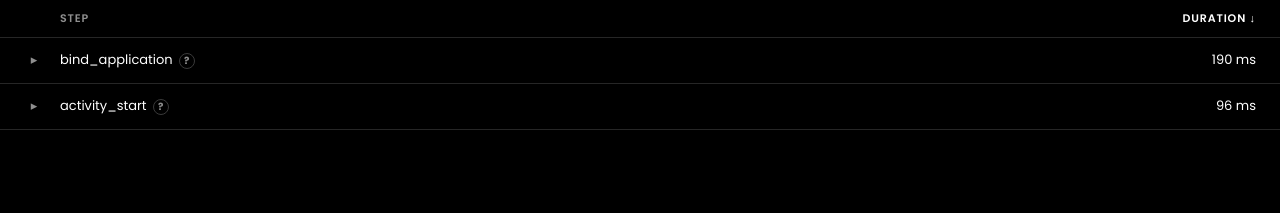
Test: ExpandableTable › opens a row from its toggle and says so
The image size is (1280, 213).
expect the text "Detail for bind_application" is not shown: met
Click the button named "bind_application" at {"x": 34, "y": 60}, box [31,50,37,70]
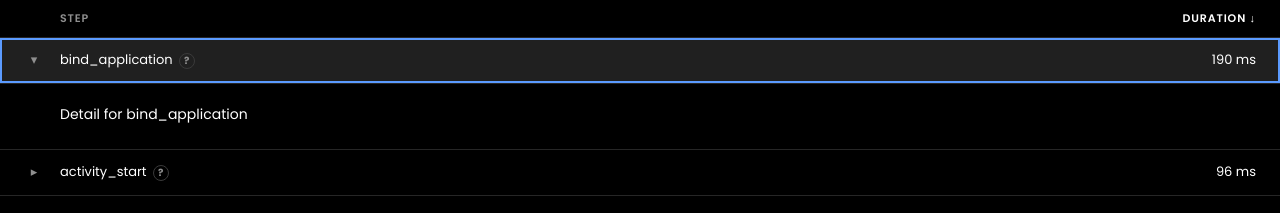
expect the button named "bind_application" is expanded: met
expect the text "Detail for bind_application" is shown: met, box [0,83,1279,149]
Click the button named "bind_application" at {"x": 34, "y": 60}, box [31,50,37,70]
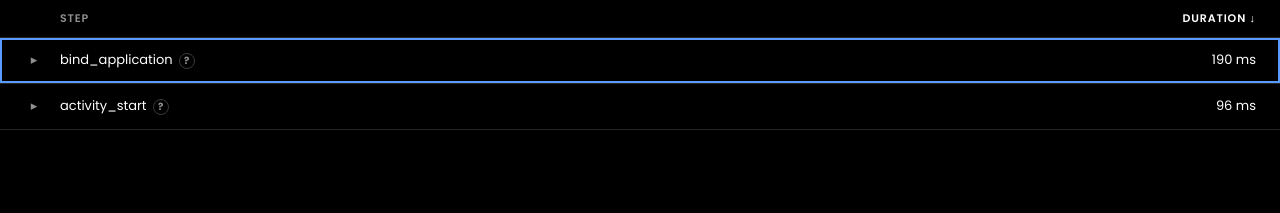
expect the text "Detail for bind_application" is gone: met
